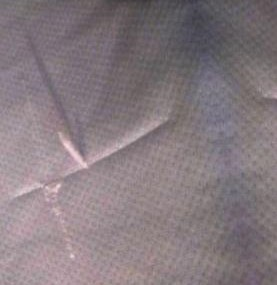snag: (53, 124, 99, 179)
